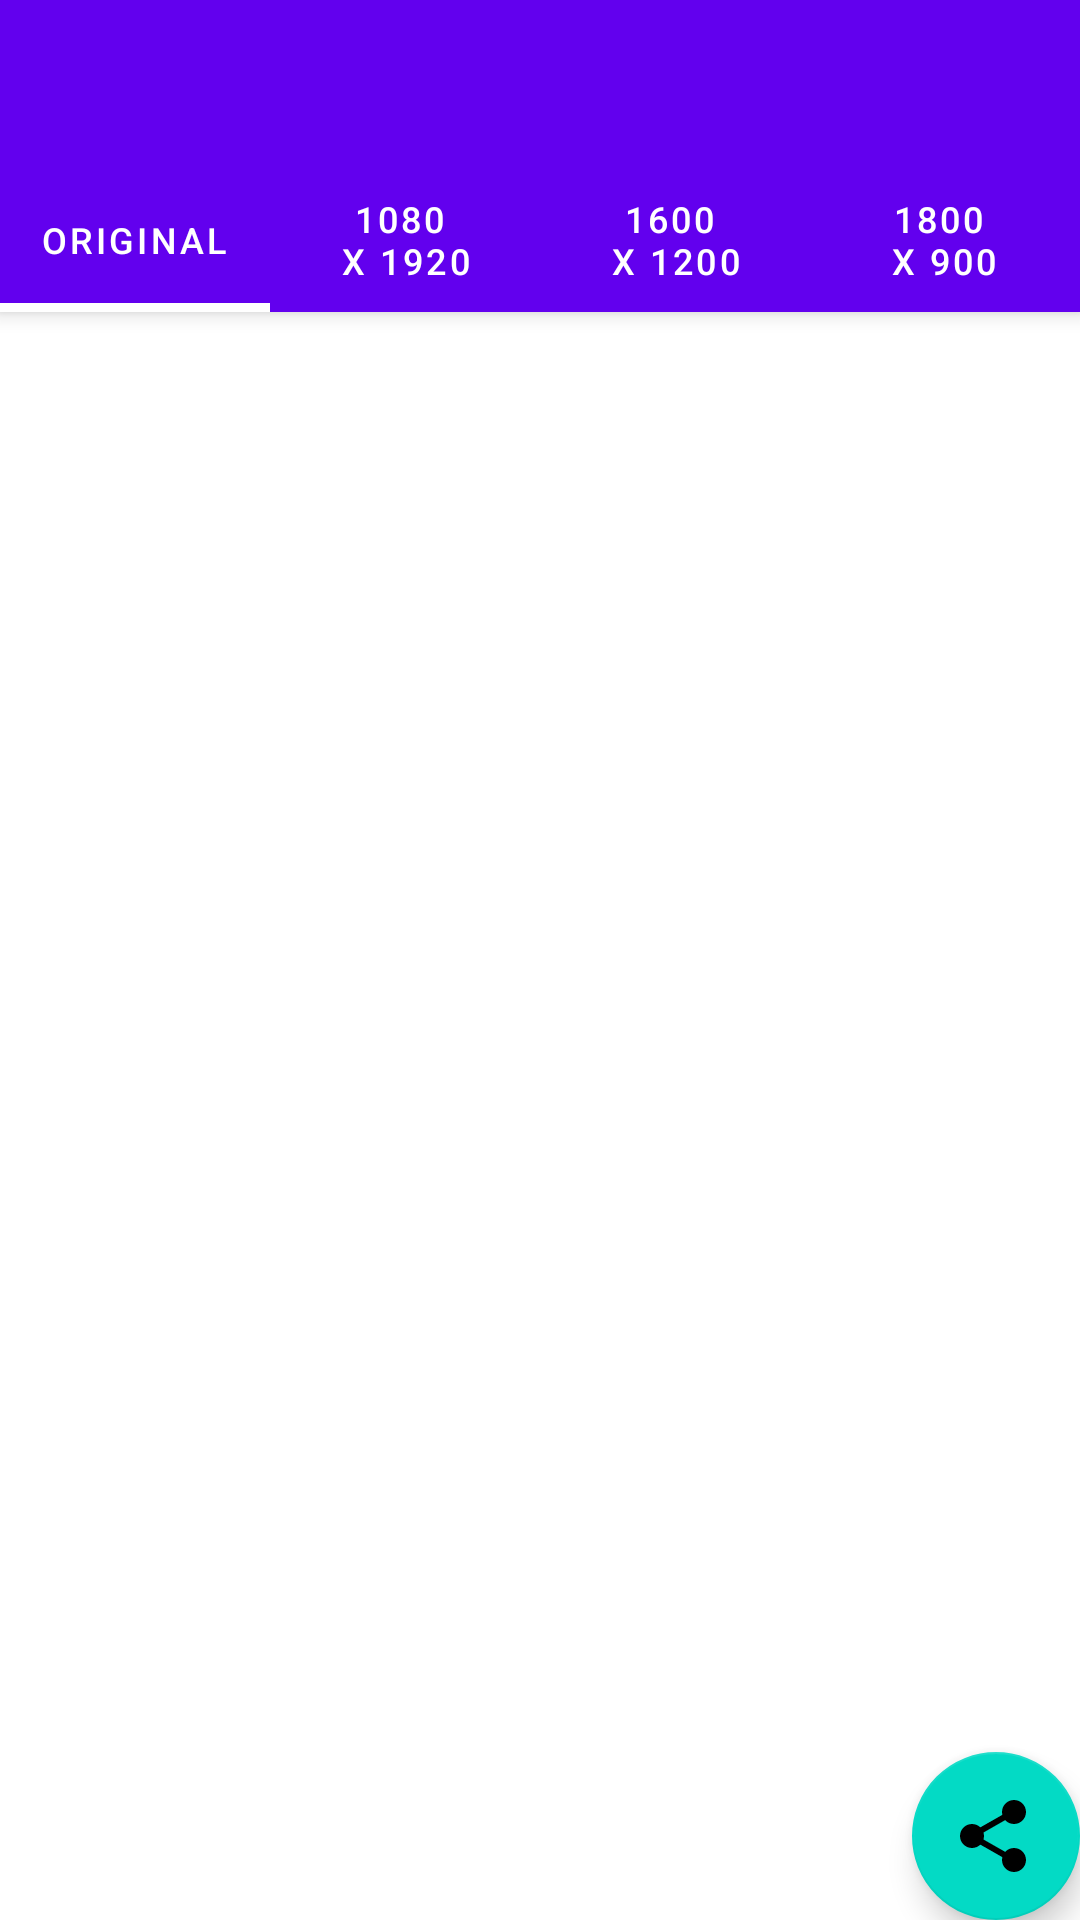

Icon bounding boxes for this 1080*1920 phone screenshot, format (x1, y1, x2, y2):
share: (912, 1752, 1080, 1920)
